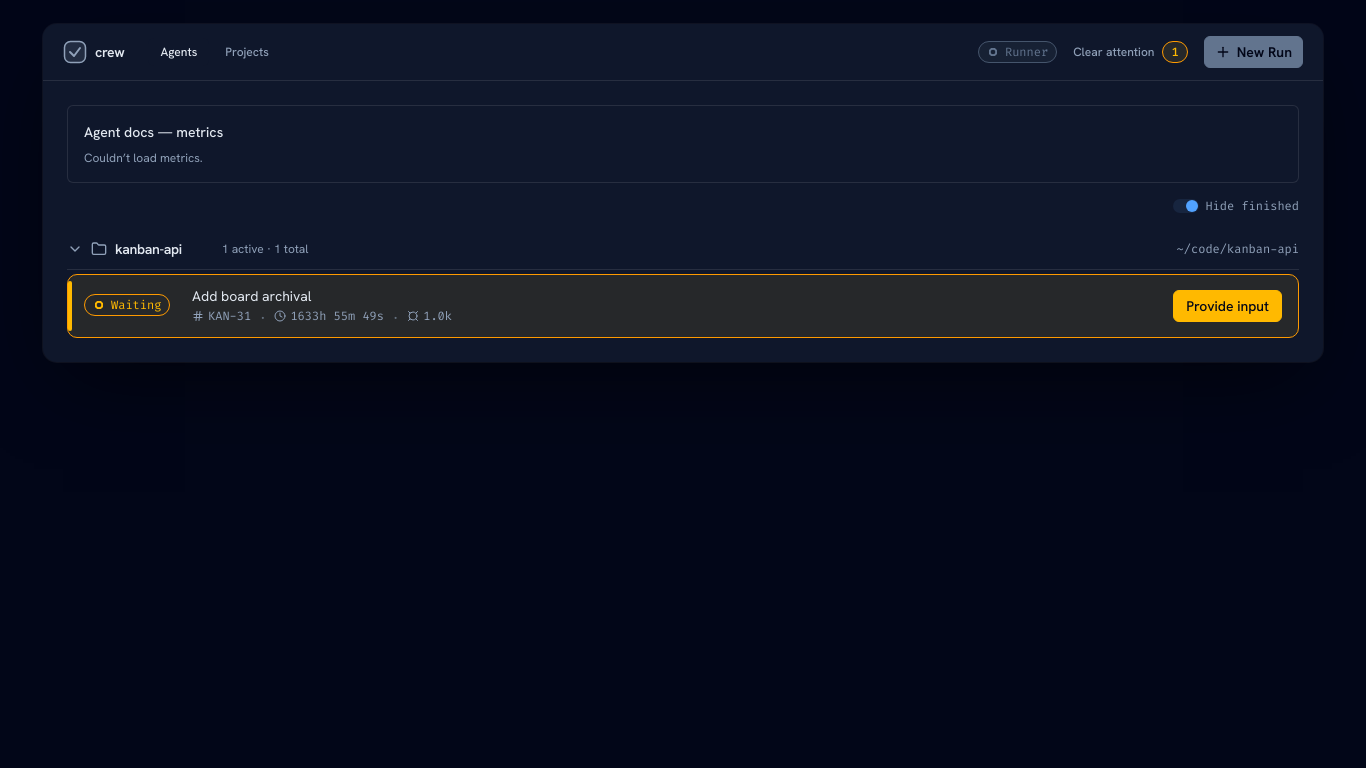
Test: App › opens the agent drawer when a row is clicked
This screenshot has width=1366, height=768.
Expected: the text "KAN-31" is shown, [208, 308, 251, 324]
Click the button "KAN-31" at (127, 305), box [67, 274, 1299, 338]
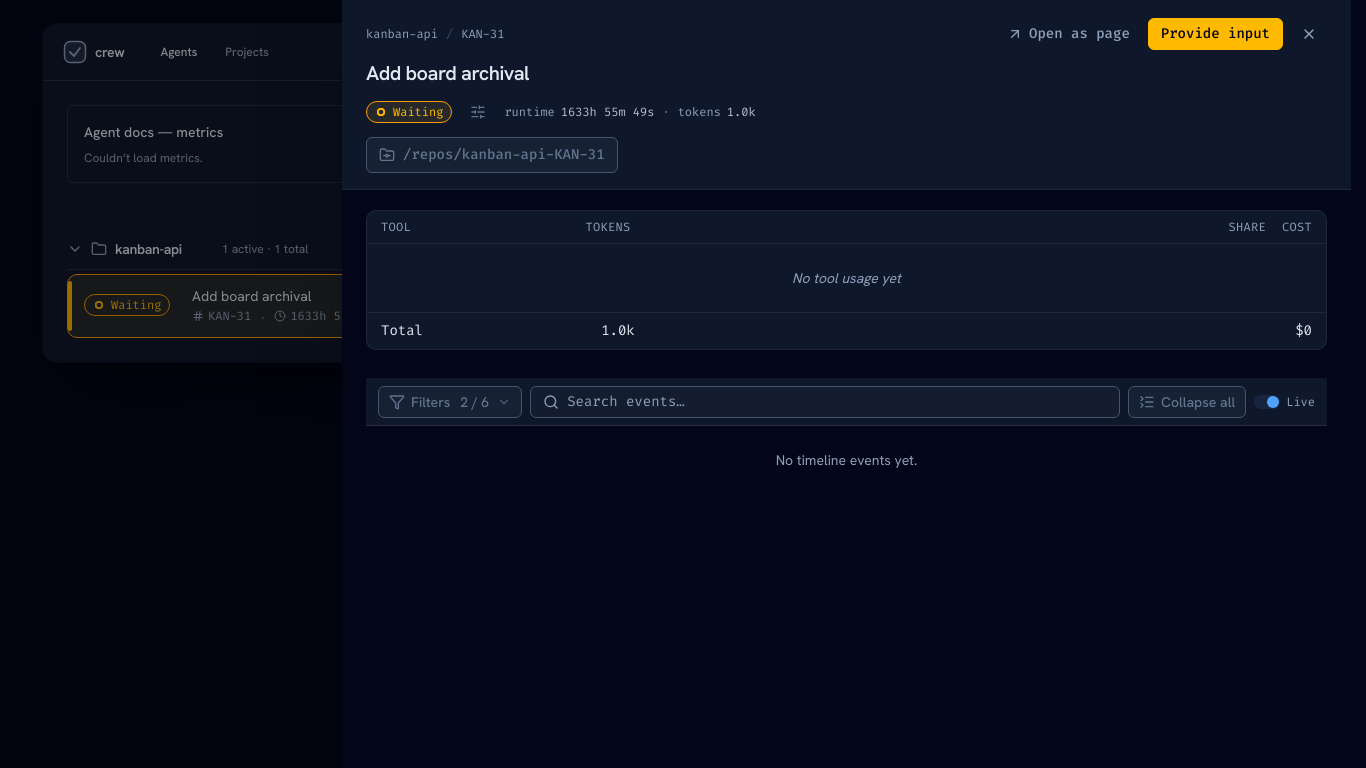
Expected: the header with test id "drawer-header" is shown, [342, 0, 1351, 190]
